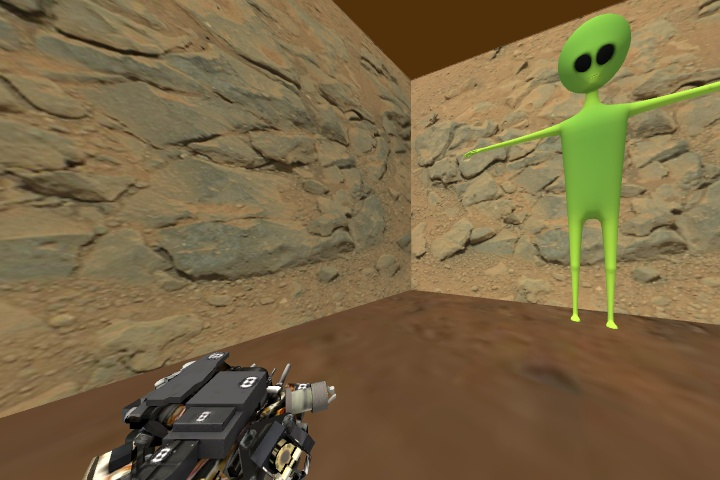alien: (468, 57, 720, 313)
